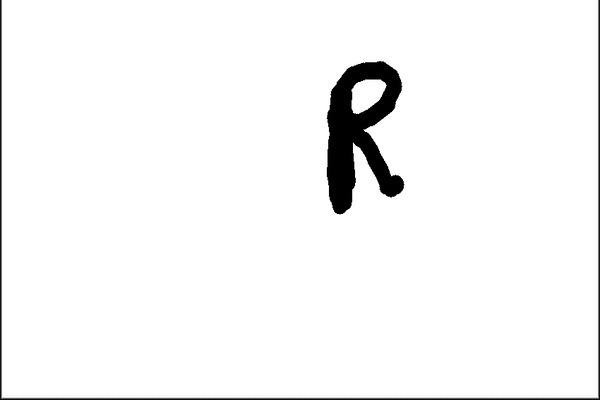R: (312, 54, 414, 226)
